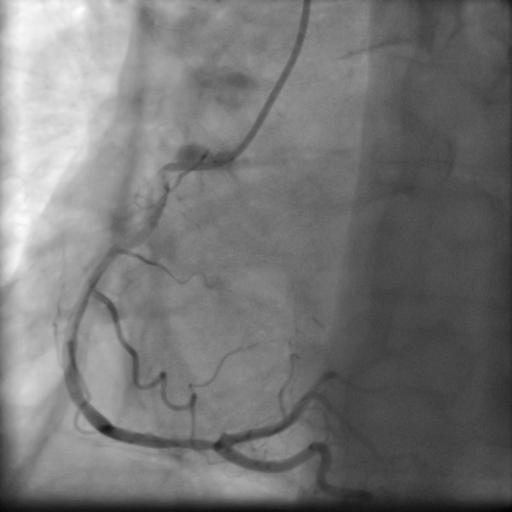Stenosis: (156, 429, 222, 453)
